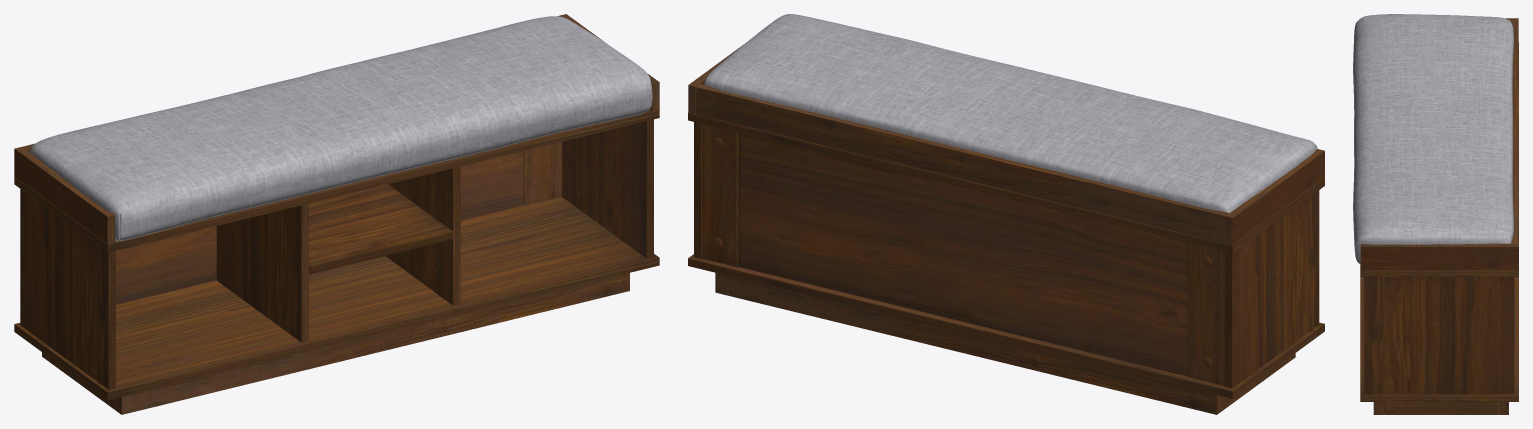
The model's file is abo-B07DBB1S8N.glb.
3 renders of one model, left to right at view 1: azimuth 30°, elevation 25°; view 2: azimuth 150°, elevation 25°; view 3: azimuth 270°, elevation 25°, orthographic. The views are drawn at different scales.
Size of the model in its own units: 1.2 by 0.468 by 0.367.
Materials: 1 (1 with a texture image).
